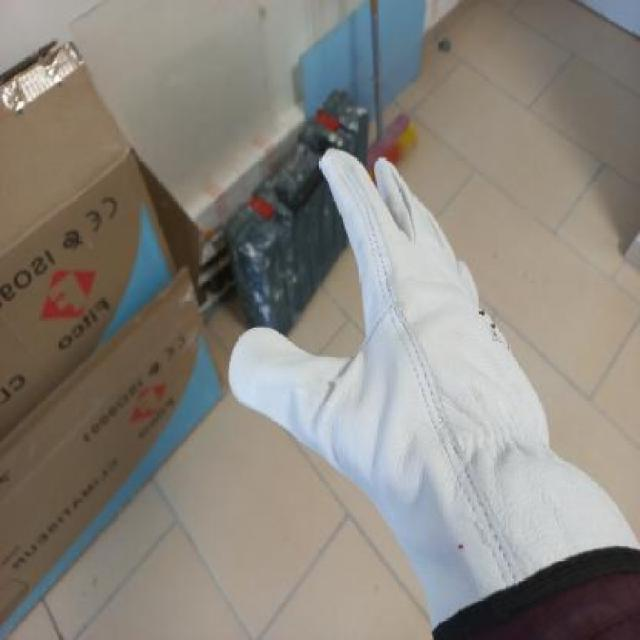gloves: (218, 149, 572, 541)
